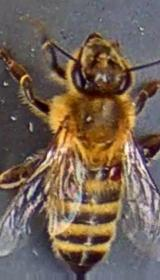varroa_mite: (98, 160, 130, 186)
